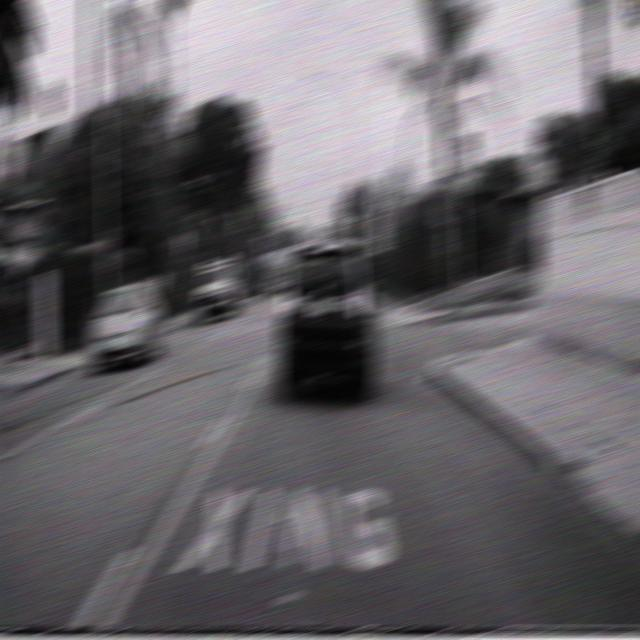pedestrianCrossing: (368, 187, 391, 215)
speedLimit25: (370, 226, 389, 252)
